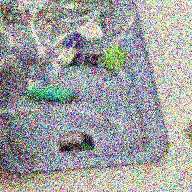러키펜정: (79, 22, 103, 41)
씨엠지세파클러캡슐: (60, 34, 84, 62)
에르도캡슐: (26, 87, 73, 101)
휴티렌정: (105, 45, 125, 71)
